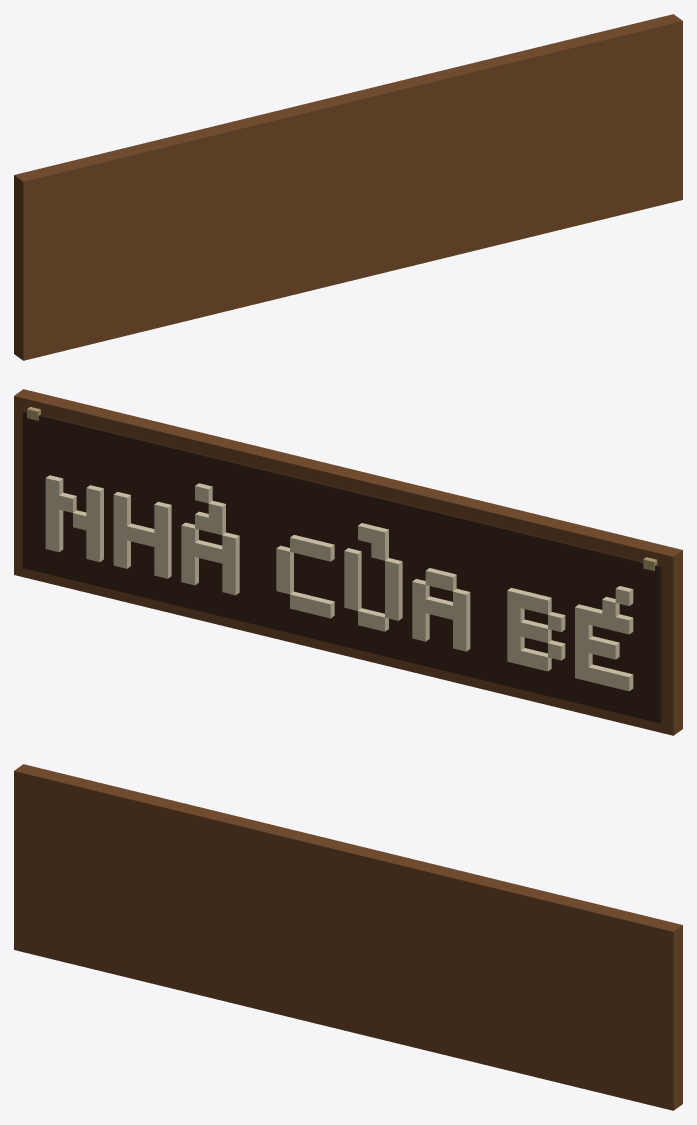
The model's file is tt-sign-nha-cua-be.glb.
The picture shows the model from 3 angles, top to bottom: view 1: azimuth 30°, elevation 25°; view 2: azimuth 150°, elevation 25°; view 3: azimuth 330°, elevation 25°; orthographic projection.
Parts seen in each view (by area): view 1: box-prop; view 2: box-prop; view 3: box-prop.
Part boxes in pixels (<box>): box-prop: <box>14,14,682,360</box>; box-prop: <box>14,389,682,735</box>; box-prop: <box>14,764,682,1110</box>.
Bounding box in the file's own units: 4.86 × 1.26 × 0.2.
